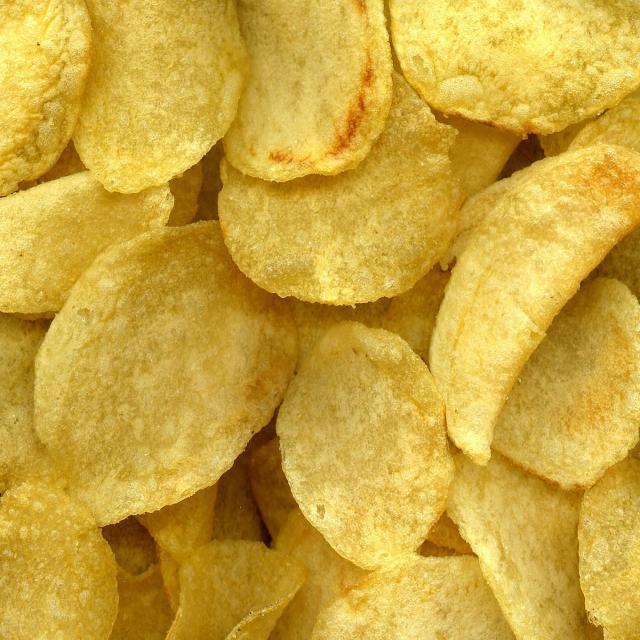Chips packaged: (20, 34, 627, 631), (28, 219, 306, 541), (432, 142, 640, 480), (271, 329, 458, 568), (57, 1, 249, 201), (390, 1, 637, 138), (218, 2, 397, 188), (501, 276, 639, 487)
